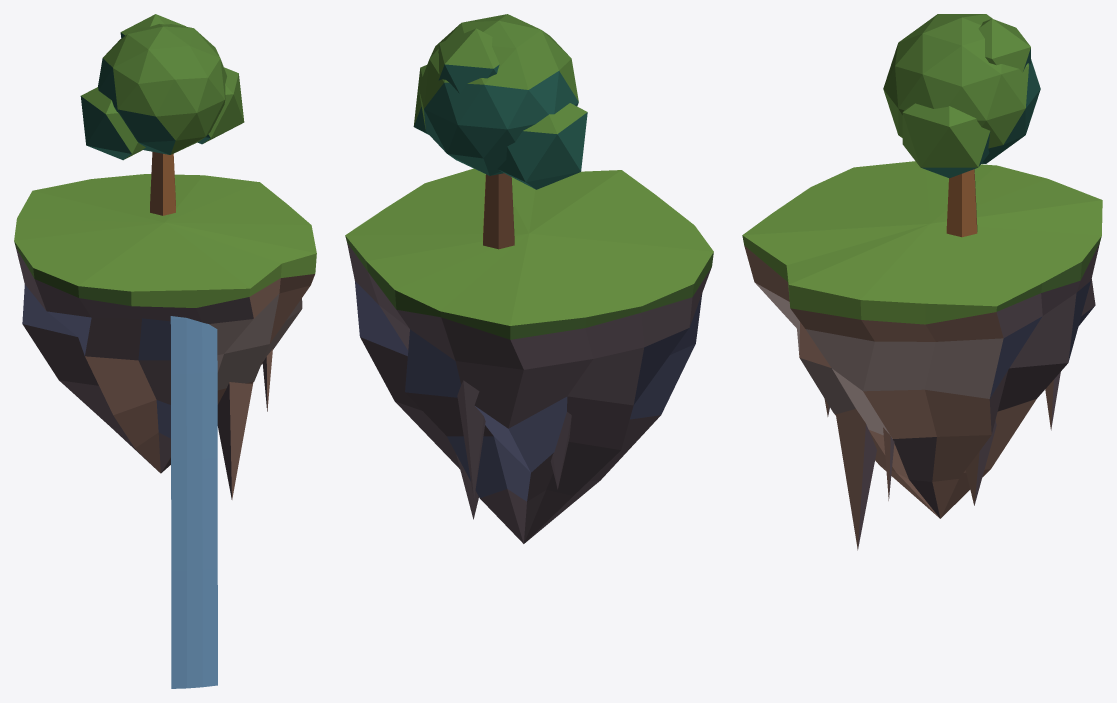
The model's file is far_island_c.glb.
The picture shows the model from 3 angles, left to right: view 1: azimuth 30°, elevation 25°; view 2: azimuth 150°, elevation 25°; view 3: azimuth 270°, elevation 25°; orthographic projection. The views are drawn at different scales.
Visible parts, largest first — view 1: Island, Waterfall; view 2: Island; view 3: Island.
Part boxes in pixels (x1,y1,x2,y2): Island: (14, 14, 316, 499); Waterfall: (170, 316, 217, 688); Island: (345, 14, 713, 543); Island: (742, 14, 1102, 550).
Bounding box in the file's own units: 22.05 × 48.48 × 22.98.
